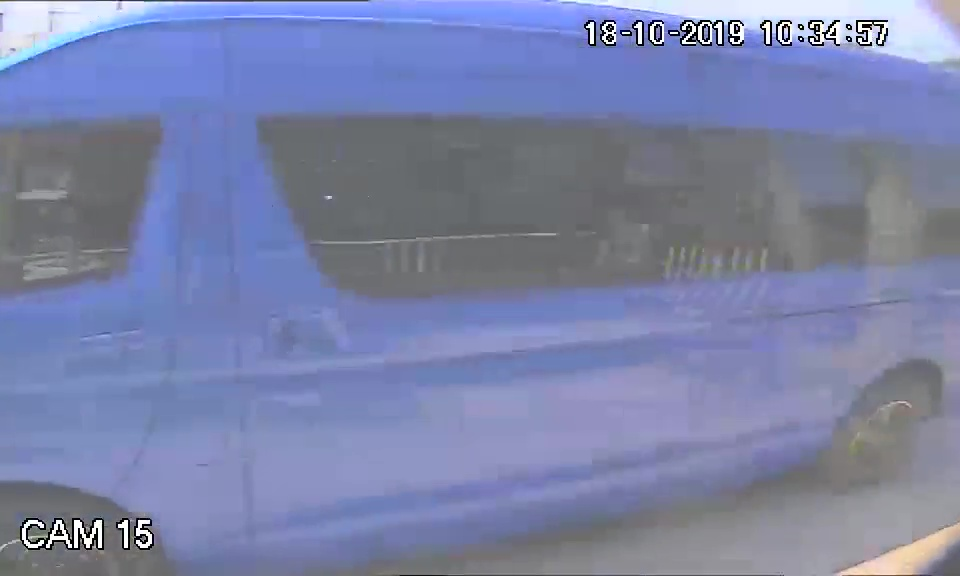van: (11, 10, 745, 551)
